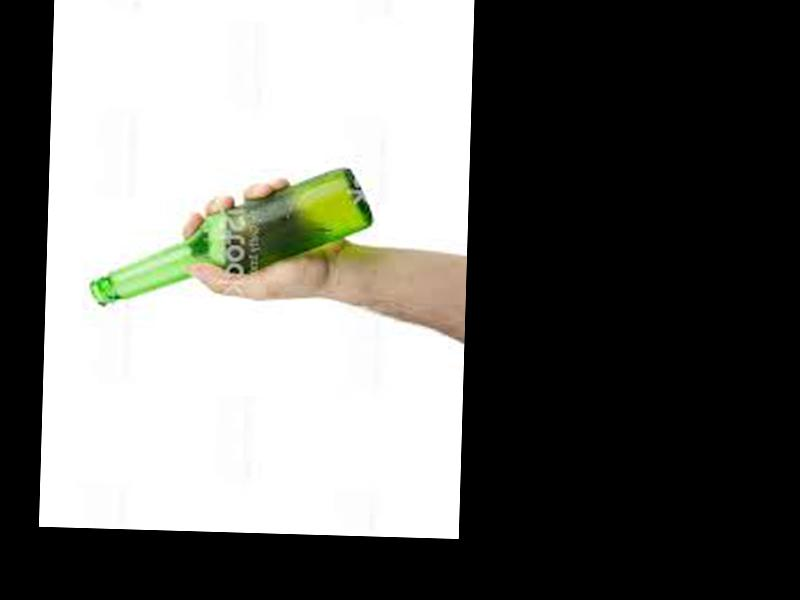Beer: (87, 159, 371, 314)
